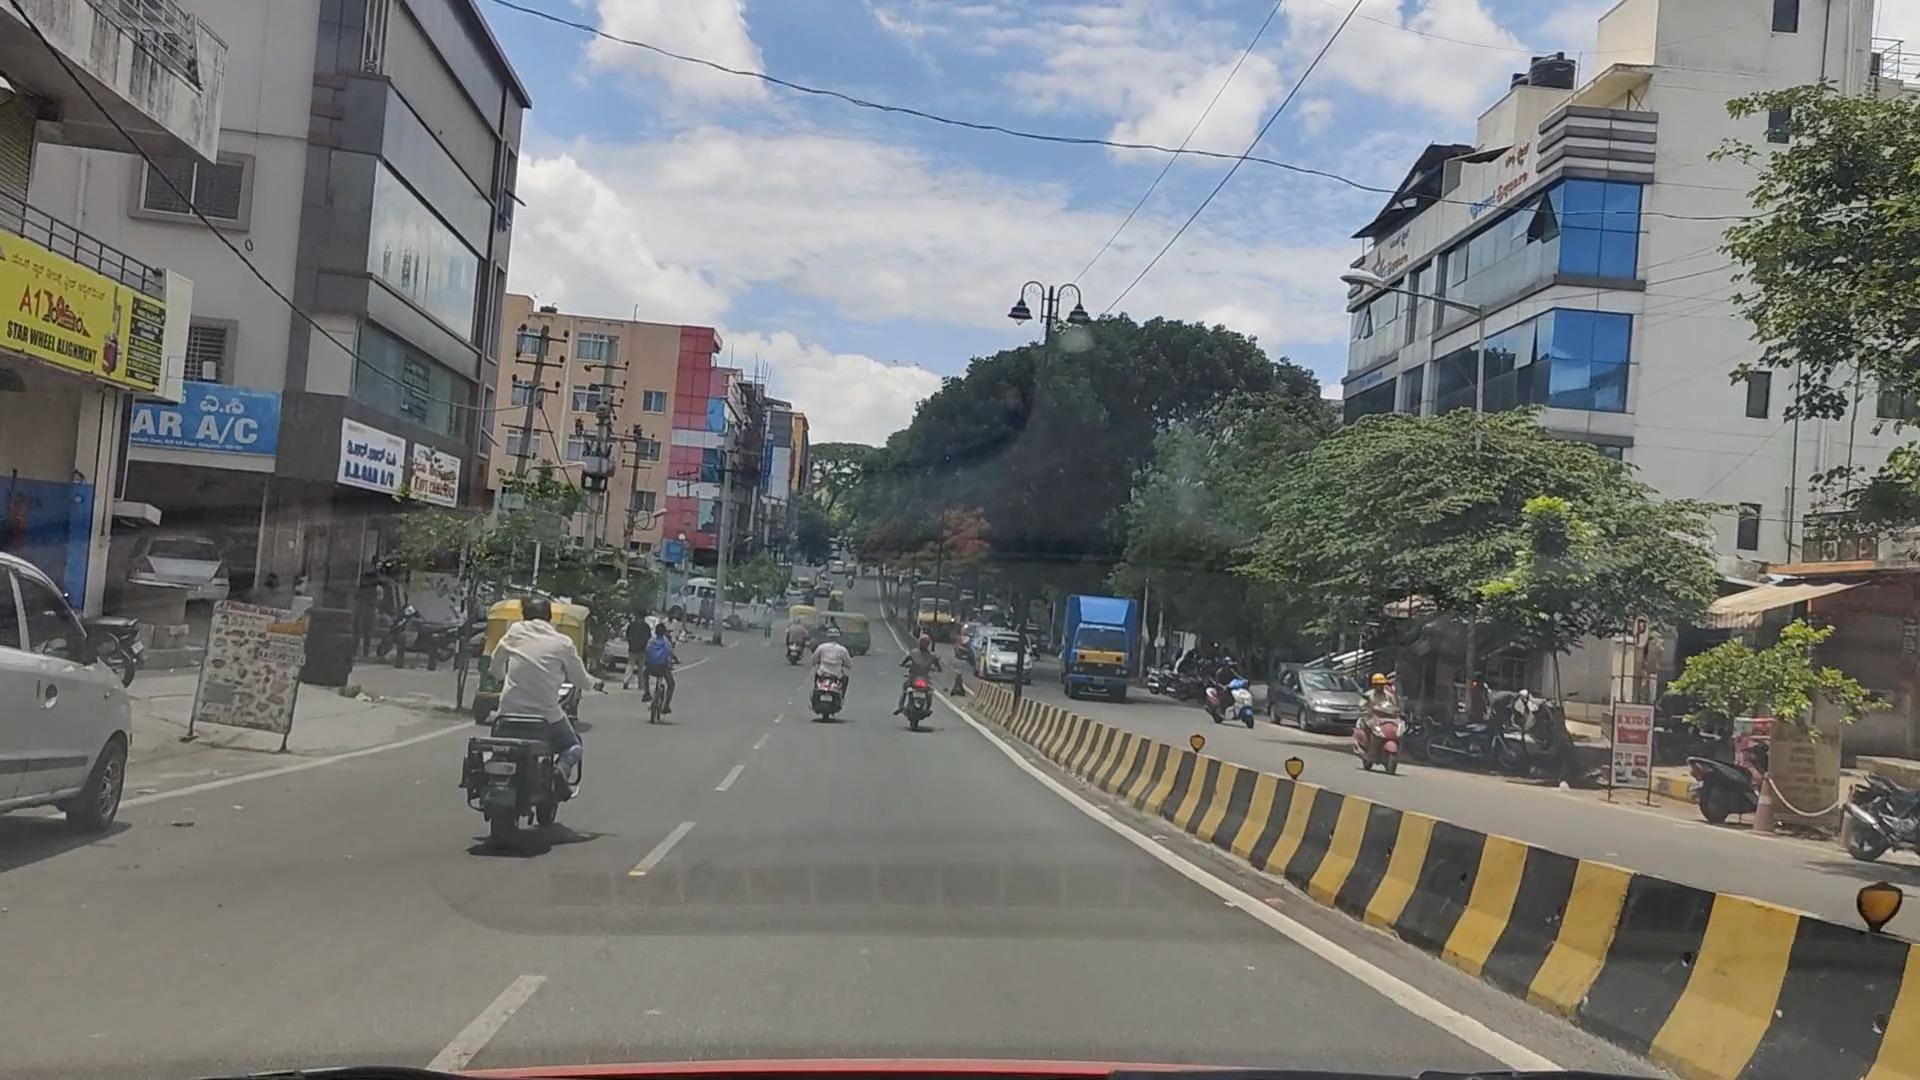LMV: (485, 588, 620, 868)
